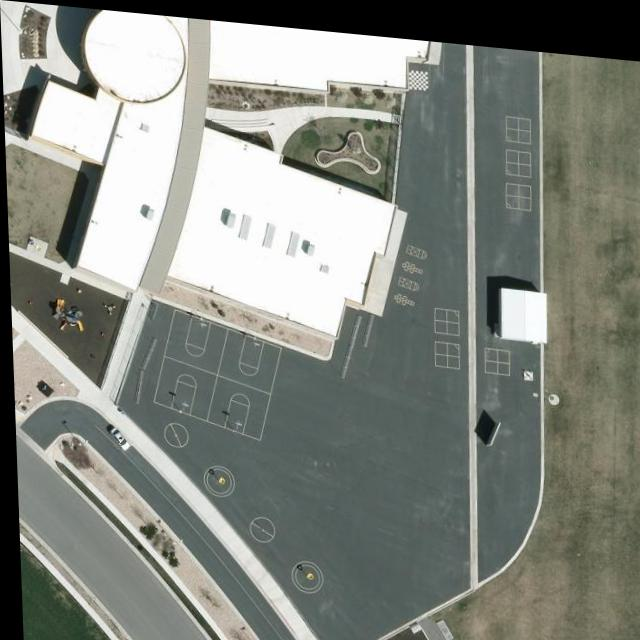vehicle: (105, 425, 129, 450)
